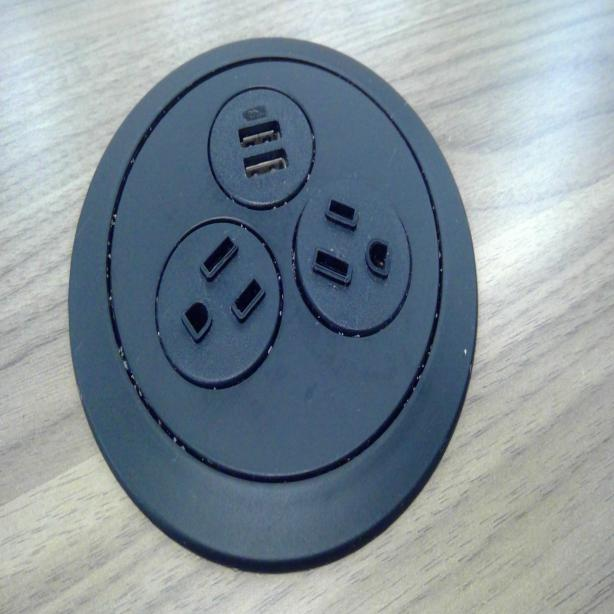typeb: (167, 226, 270, 365), (305, 187, 402, 315)
